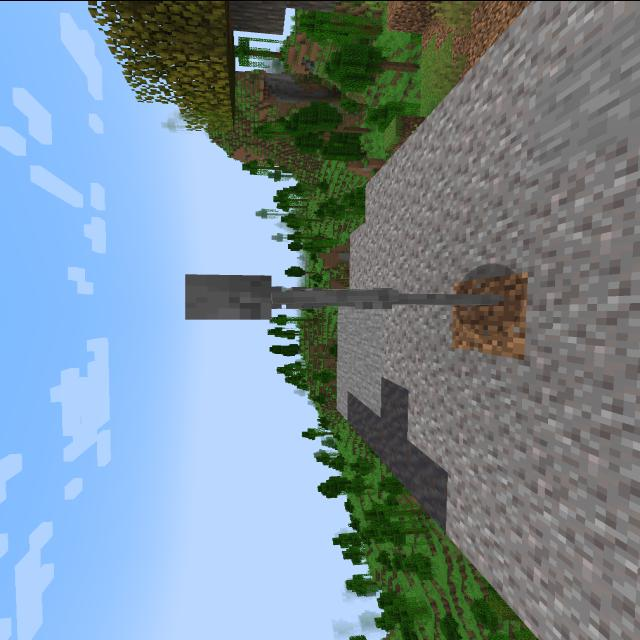Skeleton: (170, 265, 523, 329)
